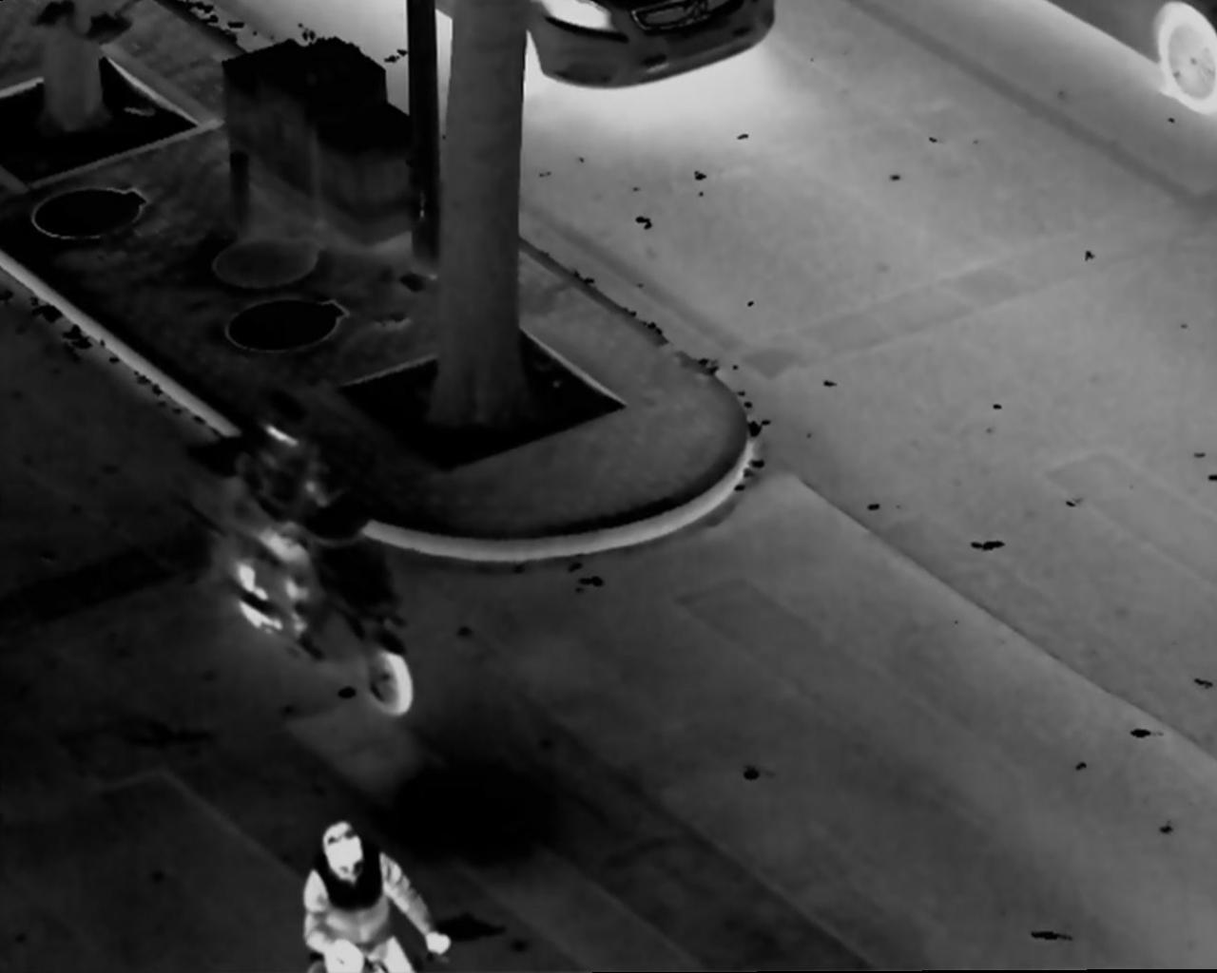person: (235, 391, 366, 652), (299, 814, 448, 973)
